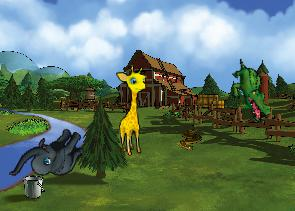crocodile: (217, 57, 284, 124)
elephant: (8, 112, 90, 200)
giraffe: (115, 65, 152, 156)
